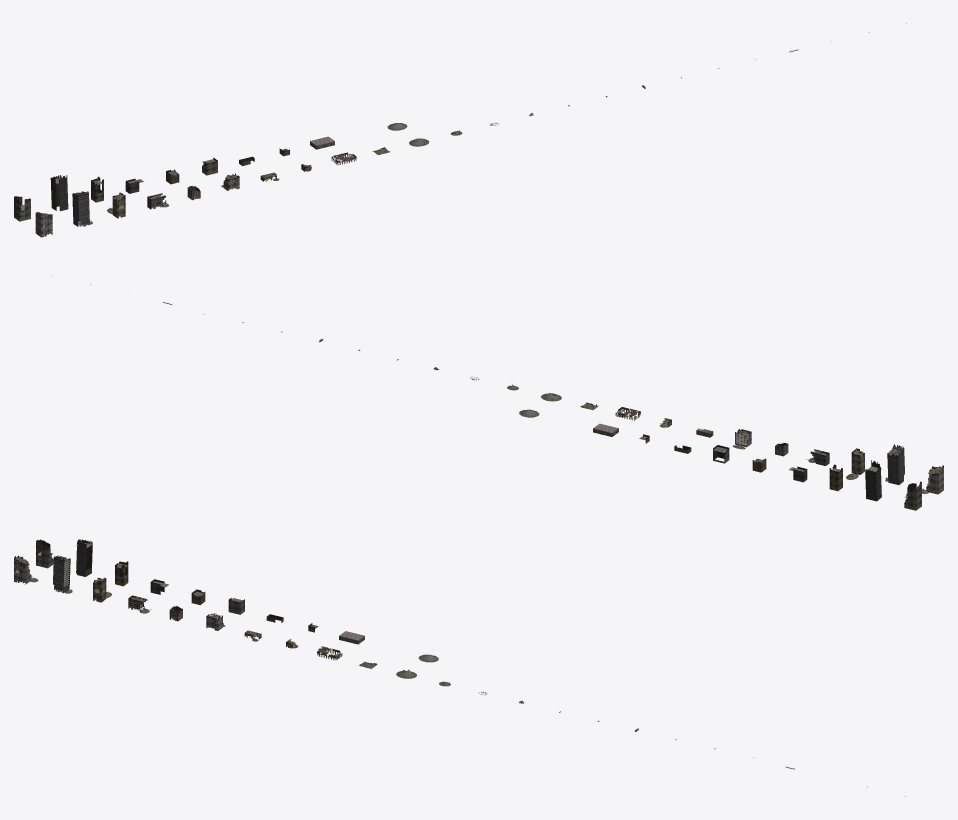
The model's file is vanthos_ruins.glb.
3 renders of one model, top to bottom at view 1: azimuth 30°, elevation 25°; view 2: azimuth 150°, elevation 25°; view 3: azimuth 330°, elevation 25°, orthographic. The views are drawn at different scales.
Parts seen in each view (by area): view 1: VR_tower_b_mesh, VR_tower_b_lod_mesh; view 2: VR_tower_b_mesh, VR_tower_b_lod_mesh; view 3: VR_tower_b_mesh, VR_tower_b_lod_mesh.
Boxes of the visible parts, bbox=[...] form: VR_tower_b_mesh: bbox=[72, 191, 92, 226]; VR_tower_b_lod_mesh: bbox=[50, 175, 68, 211]; VR_tower_b_mesh: bbox=[885, 444, 904, 484]; VR_tower_b_lod_mesh: bbox=[865, 460, 881, 501]; VR_tower_b_mesh: bbox=[53, 555, 72, 593]; VR_tower_b_lod_mesh: bbox=[76, 539, 92, 576].
Size of the model in its own units: 1932 by 70.63 by 112.
17 materials, 14 textured.
